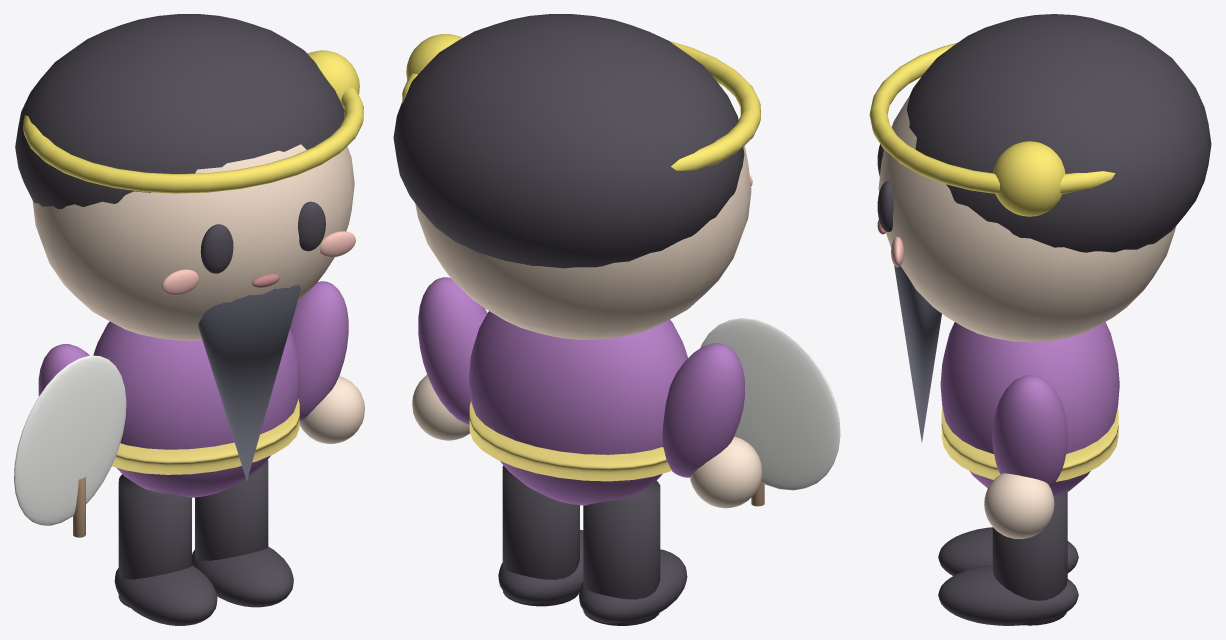
File: yt_warlock.fbx
3 views of the same model, side by side, from view 1: azimuth 30°, elevation 25°; view 2: azimuth 150°, elevation 25°; view 3: azimuth 270°, elevation 25° (orthographic). The views are drawn at different scales.
Parts seen in each view (by area): view 1: hair, head_mesh, body, wp_fan, beard, band, leg, arm_mesh, leg.001, belt, shoe, shoe.001 (+8 smaller); view 2: hair, body, head_mesh, wp_fan, arm_mesh.001, leg, leg.001, arm_mesh, belt, band, hand_mesh.001, shoe (+3 smaller); view 3: hair, head_mesh, body, arm_mesh, band, leg.001, shoe.001, knot, beard, hand_mesh, belt, shoe (+1 smaller).
Boxes of the visible parts, box(x1,y1,x2,y2) form: hair: box(15, 14, 344, 209); head_mesh: box(32, 144, 354, 340); body: box(93, 321, 300, 497); wp_fan: box(14, 355, 126, 525); beard: box(198, 285, 300, 480); band: box(23, 88, 363, 193); leg: box(118, 474, 191, 607); arm_mesh: box(290, 281, 348, 421); leg.001: box(195, 460, 268, 560); belt: box(112, 399, 299, 474); shoe: box(114, 565, 217, 625); shoe.001: box(192, 546, 293, 607); hair: box(393, 14, 744, 268); body: box(468, 311, 687, 505); head_mesh: box(415, 146, 751, 339); wp_fan: box(700, 318, 840, 490); arm_mesh.001: box(662, 343, 744, 477); leg: box(583, 480, 660, 625); leg.001: box(502, 465, 579, 606); arm_mesh: box(418, 277, 487, 424); belt: box(469, 401, 671, 481); band: box(402, 41, 760, 170); hand_mesh.001: box(690, 436, 762, 508); shoe: box(579, 549, 687, 623); hair: box(906, 14, 1211, 252); head_mesh: box(878, 96, 1175, 342); body: box(940, 322, 1119, 497); arm_mesh: box(992, 375, 1067, 487); band: box(869, 43, 1115, 194); leg.001: box(992, 492, 1067, 625); shoe.001: box(938, 565, 1078, 625); knot: box(993, 141, 1065, 216); beard: box(894, 265, 941, 442); hand_mesh: box(984, 473, 1054, 538); belt: box(941, 407, 1118, 481); shoe: box(938, 527, 1078, 575).
Size of the model in its own units: 0.8112 by 1.15 by 0.6318.
